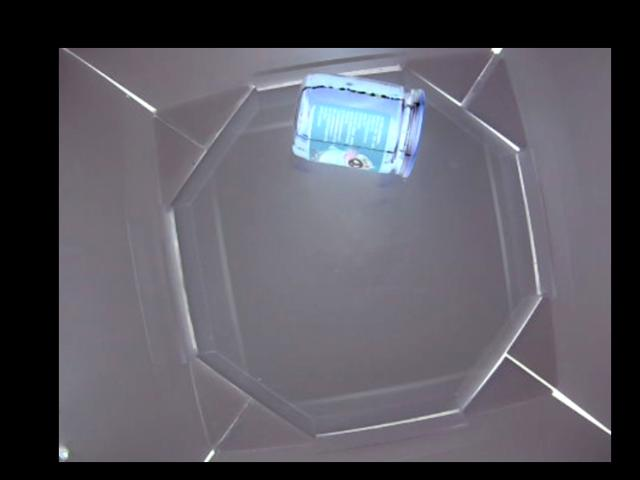Bottle: (291, 70, 427, 179)
